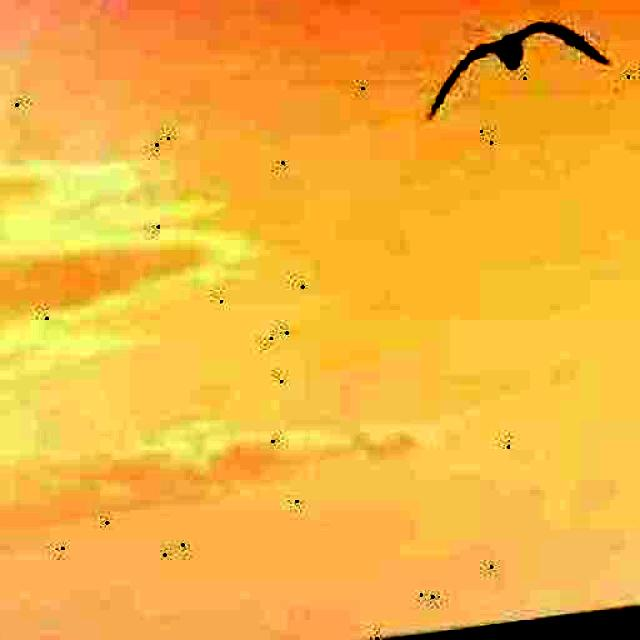airplane: (416, 12, 616, 121)
